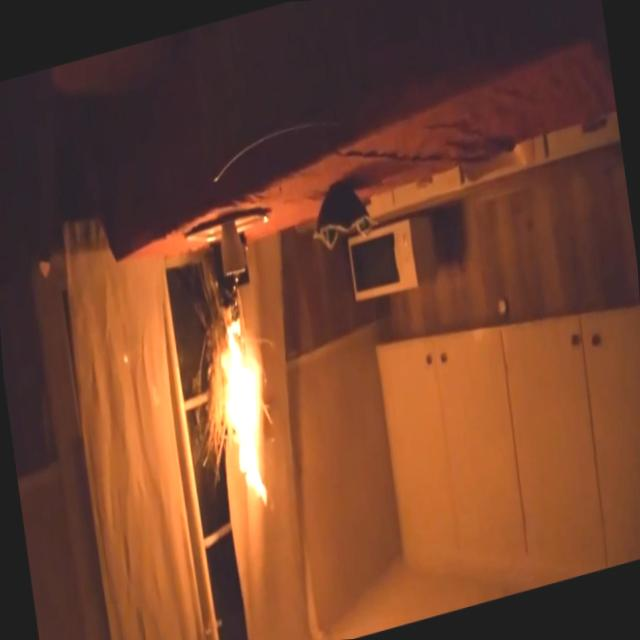fire: (182, 251, 312, 540)
